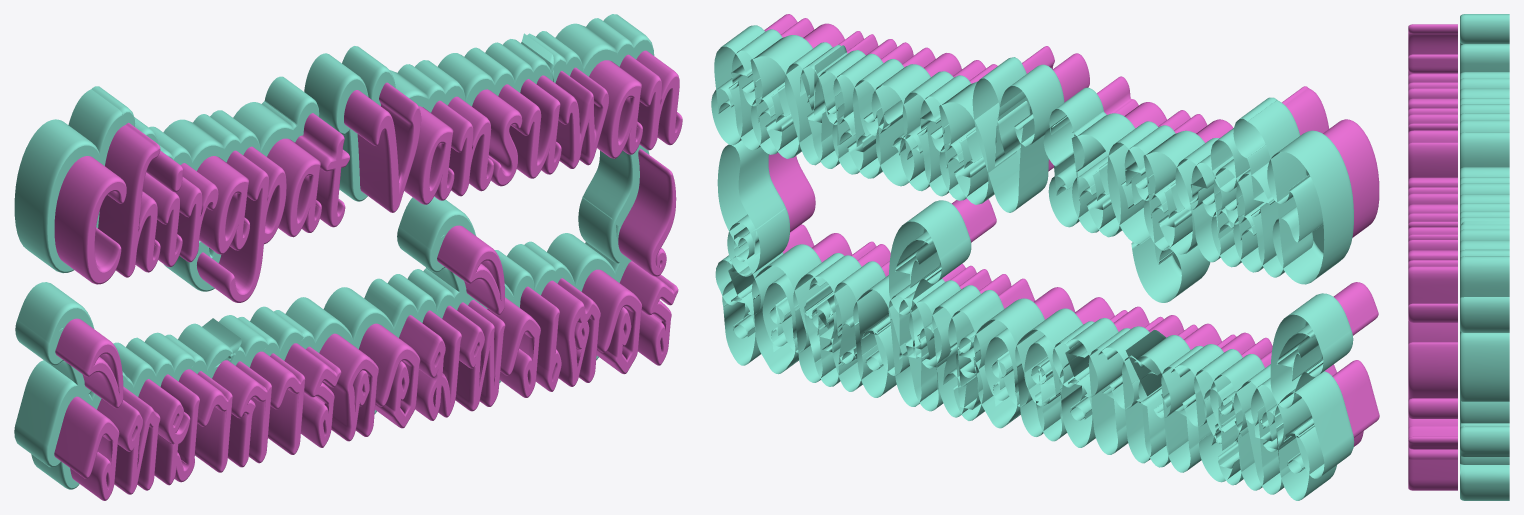
3 views of the same model, side by side, from view 1: azimuth 30°, elevation 25°; view 2: azimuth 150°, elevation 25°; view 3: azimuth 270°, elevation 25° (orthographic). The views are drawn at different scales.
Parts seen in each view (by area): view 1: Text, Text.001; view 2: Text.001, Text; view 3: Text.001, Text.
Boxes of the visible parts, box(x1,y1,x2,y2) form: Text: box(54, 50, 682, 500); Text.001: box(14, 14, 654, 489); Text.001: box(711, 25, 1354, 500); Text: box(764, 14, 1379, 446); Text.001: box(1460, 14, 1509, 500); Text: box(1408, 24, 1457, 490).
Bounding box in the file's own units: 1.02 × 0.586 × 0.184.
